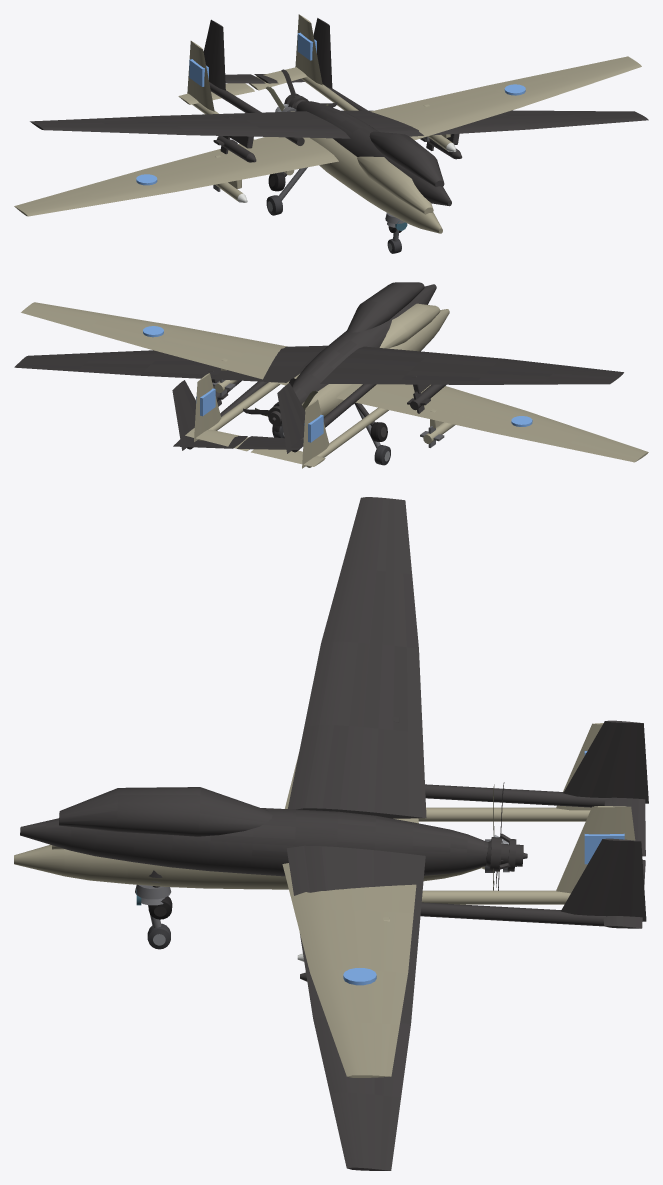
The model's file is drone__mohajer_6.glb.
3 renders of one model, top to bottom at view 1: azimuth 30°, elevation 25°; view 2: azimuth 150°, elevation 25°; view 3: azimuth 270°, elevation 25°, orthographic. The views are drawn at different scales.
Visible parts, largest first — view 1: Fuselage_Mesh, Wreck; view 2: Wreck, Fuselage_Mesh; view 3: Wreck, Fuselage_Mesh.
Boxes of the visible parts, x1=… form: Fuselage_Mesh: x1=14, y1=14, x2=641, y2=253; Wreck: x1=30, y1=18, x2=648, y2=233; Wreck: x1=14, y1=282, x2=623, y2=453; Fuselage_Mesh: x1=21, y1=302, x2=648, y2=468; Wreck: x1=20, y1=497, x2=648, y2=1170; Fuselage_Mesh: x1=14, y1=723, x2=635, y2=1077.
Size of what is drawn, in the model's own units: 10.11 by 2.28 by 5.69.
